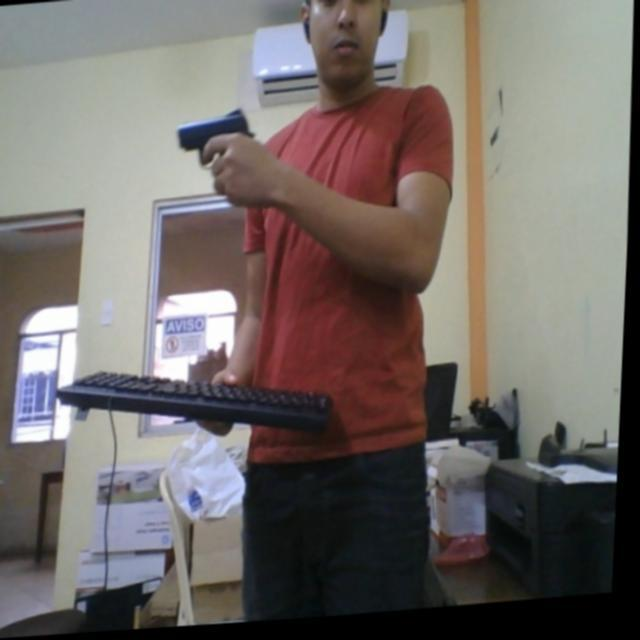weapon: (173, 107, 261, 198)
